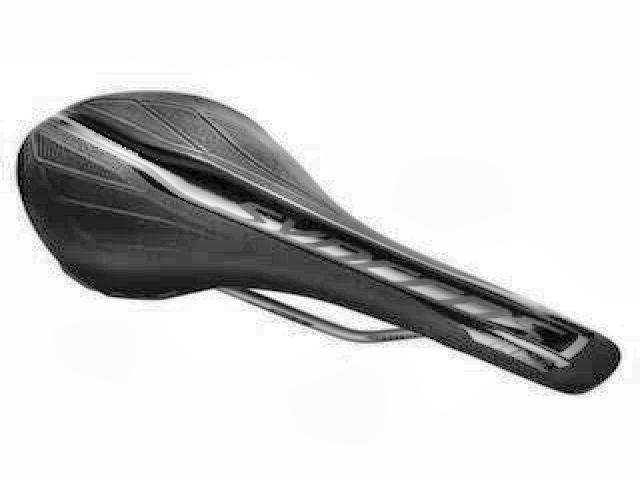saddle: (15, 87, 622, 406)
